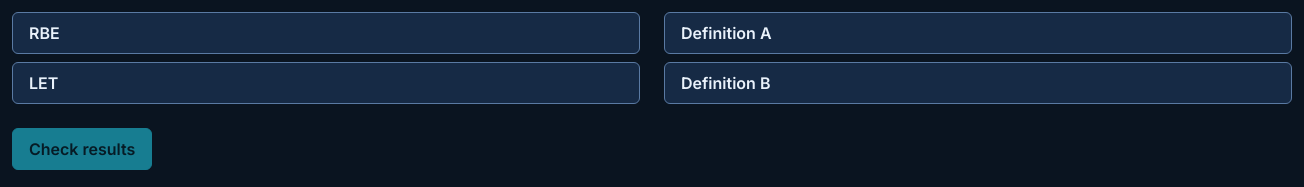
MatchingPlayer › pairs a selected term with a definition and grades it
Click the button "RBE".
click(44, 33)  # box [12,12,640,54]
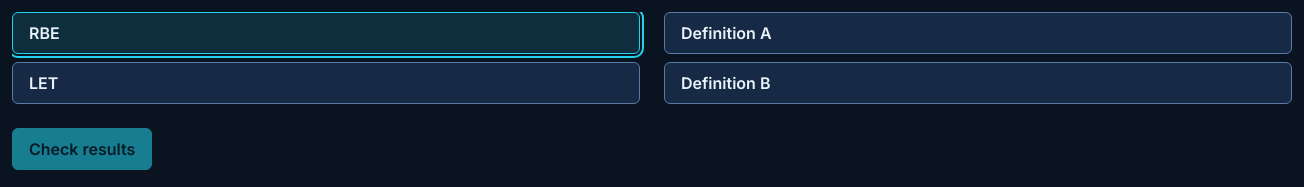
Click the button "Definition B".
click(726, 83)  # box [664,62,1292,104]
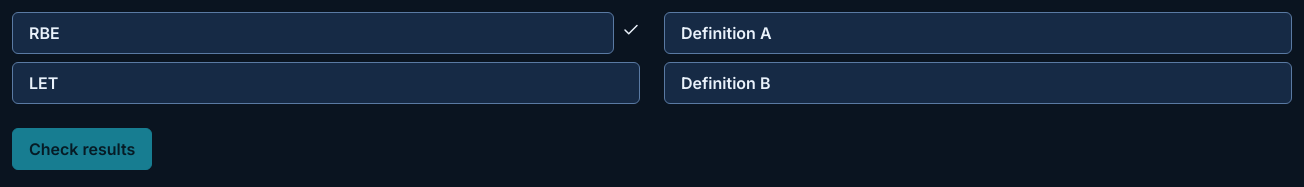
Check: the picture named "Correct" is shown, box [622,21,640,39]
